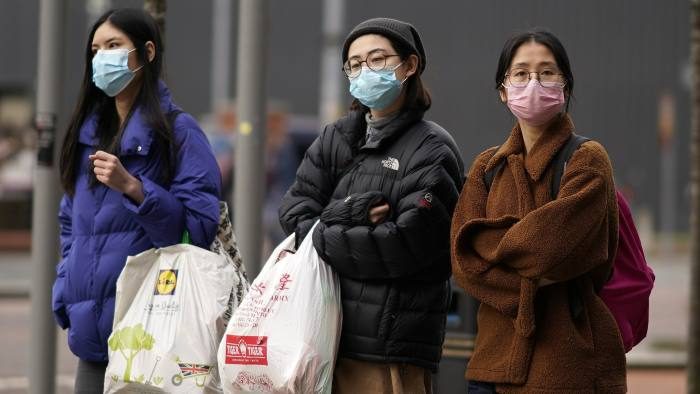with_mask: (510, 56, 561, 111), (349, 48, 398, 98), (90, 38, 132, 85)
